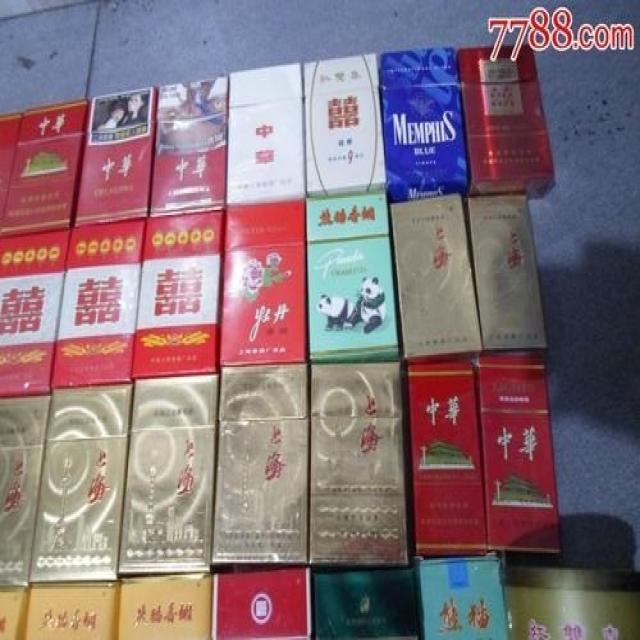box: (118, 374, 218, 579), (211, 362, 308, 573), (310, 362, 407, 572), (31, 384, 133, 582), (474, 355, 561, 551), (402, 360, 488, 555), (306, 191, 401, 364), (51, 218, 146, 389), (389, 195, 484, 364), (132, 210, 225, 379), (458, 43, 556, 200), (220, 201, 307, 367), (379, 46, 468, 203), (463, 195, 547, 355), (1, 99, 91, 237), (302, 53, 387, 196), (227, 61, 306, 208), (148, 73, 228, 218), (0, 230, 69, 396), (76, 85, 157, 225), (504, 565, 640, 640), (0, 396, 51, 587), (413, 556, 509, 640), (312, 567, 421, 640), (212, 567, 312, 638), (119, 572, 212, 640), (26, 582, 122, 640), (0, 113, 22, 236), (0, 587, 29, 640)
